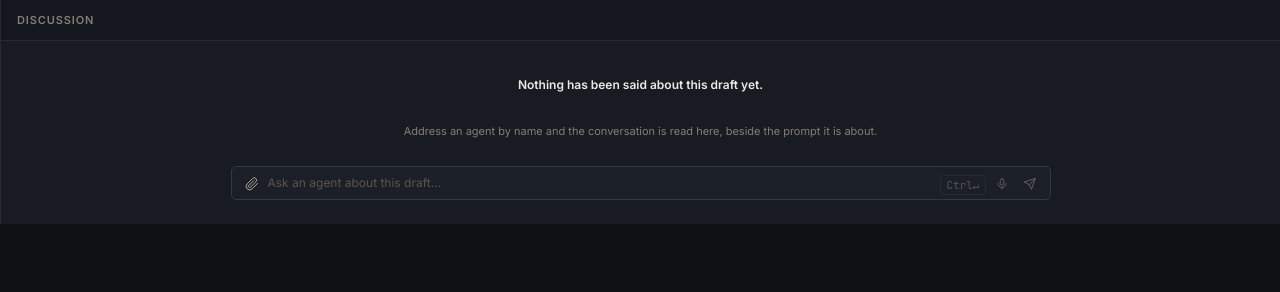
Test: the opening composer (DDS-FR-VHZN, DDS-FR-LPSC, NAW-FR-32) › CMT-FR-34, CVP-FR-41: a refused opening keeps the text and the strip and says why
Type "keep me" into the text box named "Discuss this draft" at (602, 183), box [268,171,936,195]
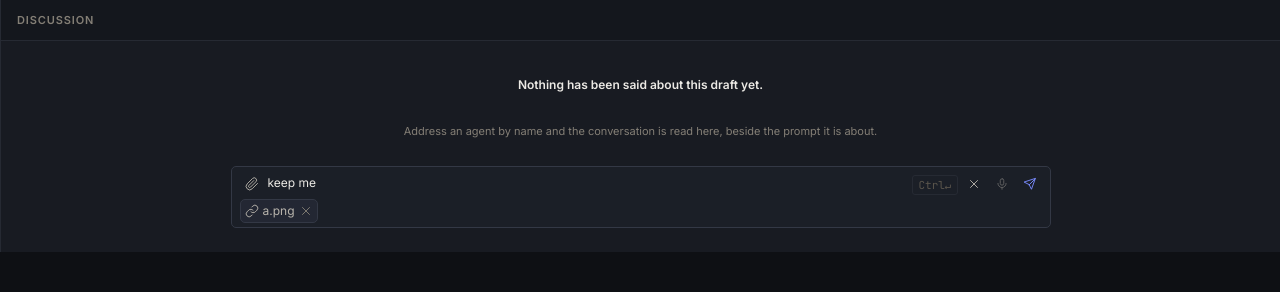
Click the button named "Post" at (1030, 184), box [1018,173,1042,195]
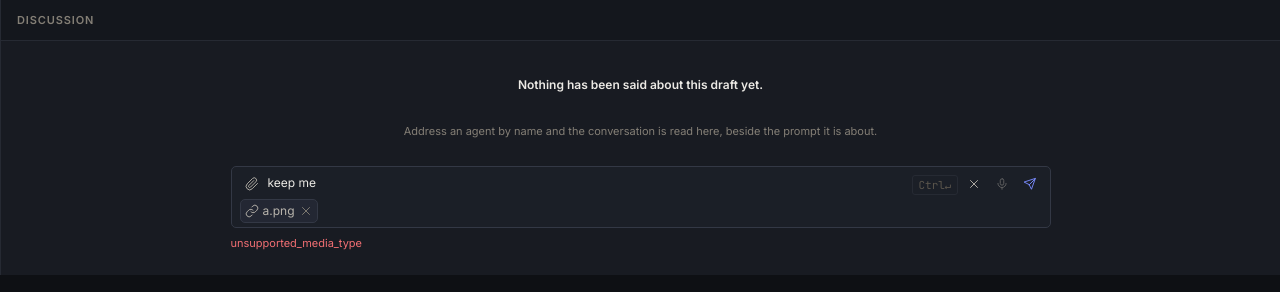
Now the text "a.png" is shown, box [262,202,294,220]
Now the message "unsupported_media_type" is shown, box [230,236,362,250]
